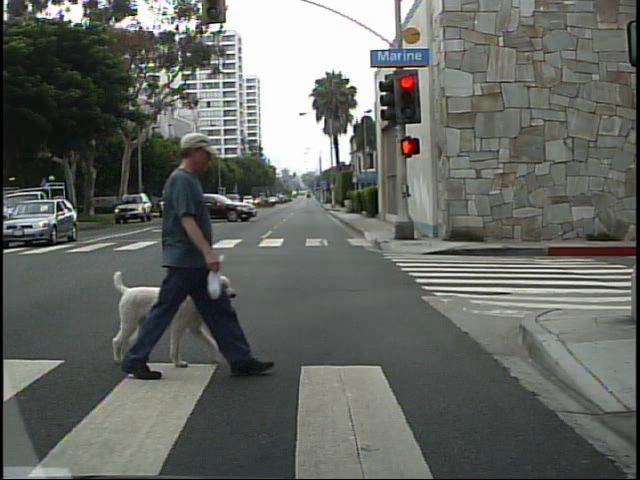person: (122, 117, 242, 385)
